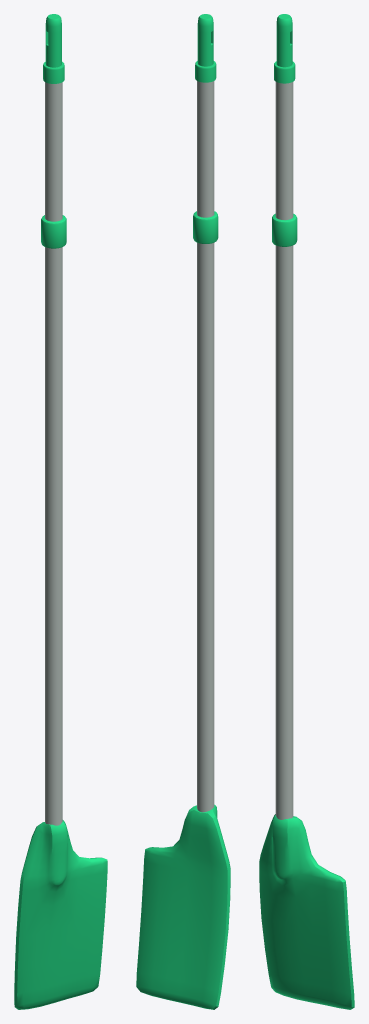
The model's file is spadeleft.fbx.
3 renders of one model, left to right at view 1: azimuth 30°, elevation 25°; view 2: azimuth 150°, elevation 25°; view 3: azimuth 330°, elevation 25°, orthographic.
Visible parts, largest first — view 1: spaderight.001; view 2: spaderight.001; view 3: spaderight.001.
Boxes of the visible parts, box(x1,y1,x2,y2) form: spaderight.001: box(14, 14, 107, 1009); spaderight.001: box(136, 14, 230, 1009); spaderight.001: box(259, 14, 354, 1009).
Size of the model in its own units: 56.3 by 606 by 24.29.
